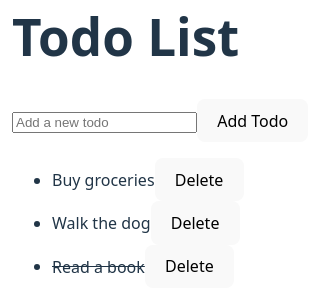
it: TodoList Component › deletes a todo
Click the button "Delete" next to "Buy groceries" at (199, 180), box [154,158,244,202]
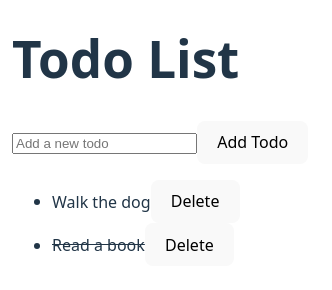
Expected: the list item "Buy groceries" is gone
